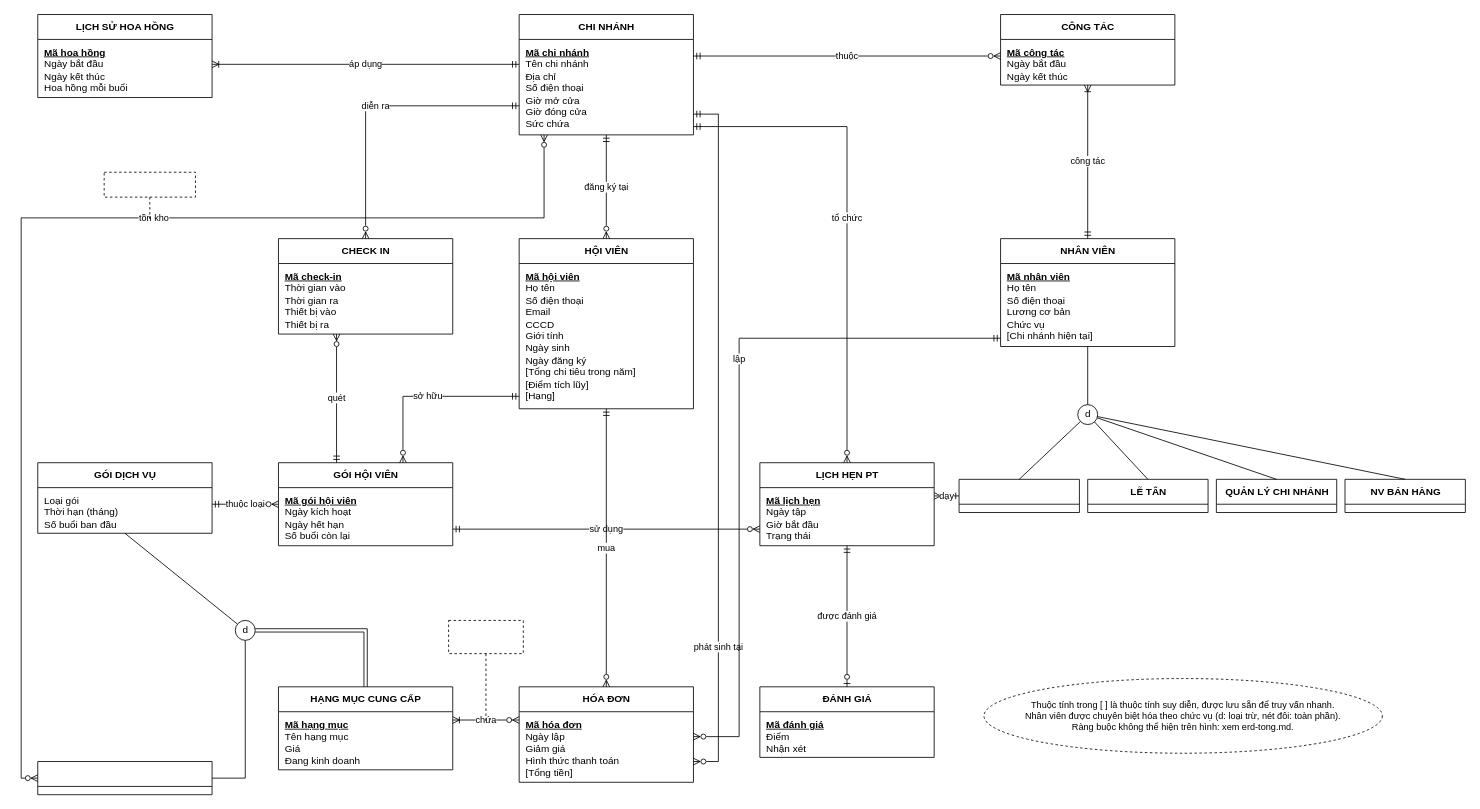
Some shapes in this 1480 by 809 pixel diagram are drawn without their labels. Each missing label, with the centre of its shape:
HUẤN LUYỆN VIÊN (PT): (x=1018, y=495)
SẢN PHẨM: (x=124, y=778)
Số lượng tồn: (x=149, y=184)
Số lượng Đơn giá: (x=485, y=637)
